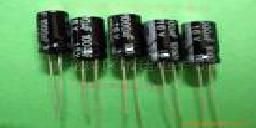Electrolytic-Capacitor: (179, 21, 223, 128), (70, 14, 109, 128), (107, 12, 145, 128), (145, 17, 182, 128), (36, 8, 69, 125)
